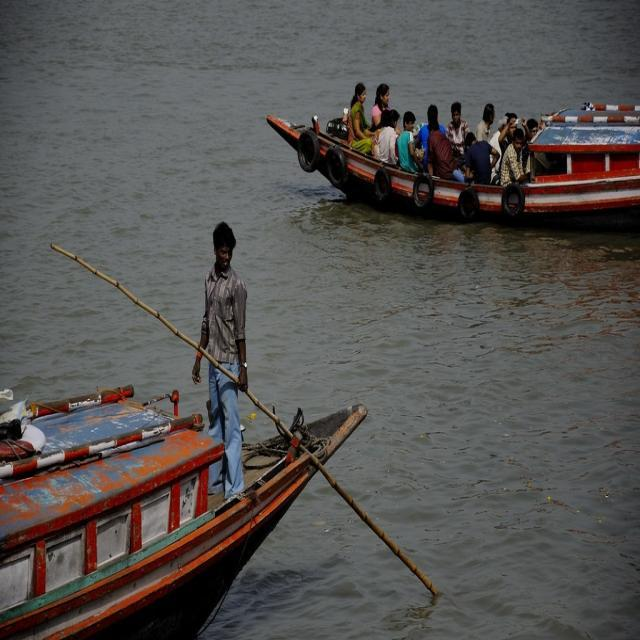boat: (0, 375, 382, 640), (250, 85, 640, 219)
